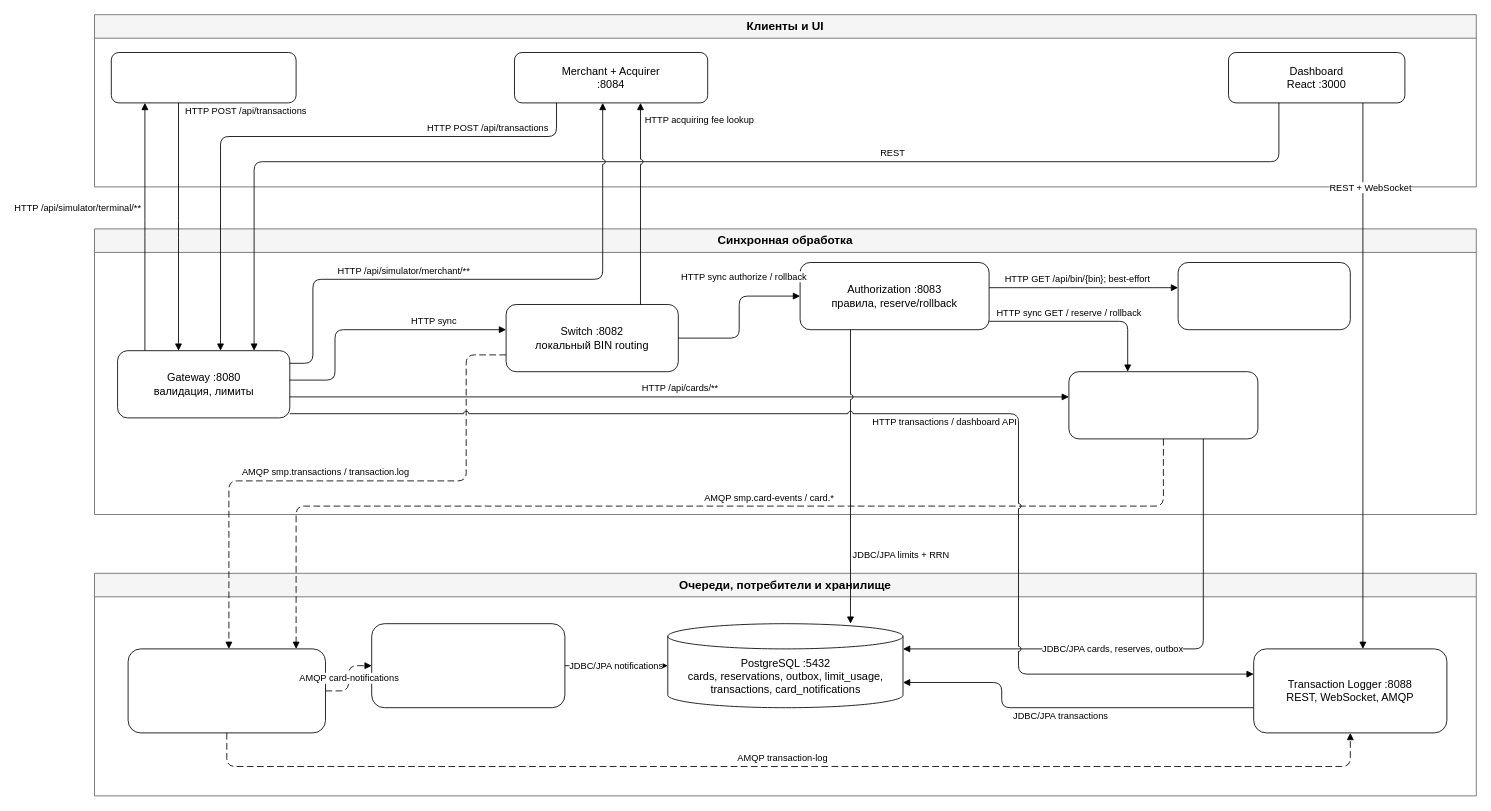
Some shapes in this 1491 by 811 pixel diagram are drawn without their labels. The centre of each missing label's shape, as x and y in pixels:
"BIN Lookup :8096 внешний HTTP API" goes at [1263,296].
"Card Management :8081 карты, резерв, outbox" goes at [1163,405].
"Notification Service :8097 AMQP consumer" goes at [468,665].
"RabbitMQ AMQP :5672; UI :15672" goes at [226,690].
"Terminal Simulator :8085" goes at [203,77].
